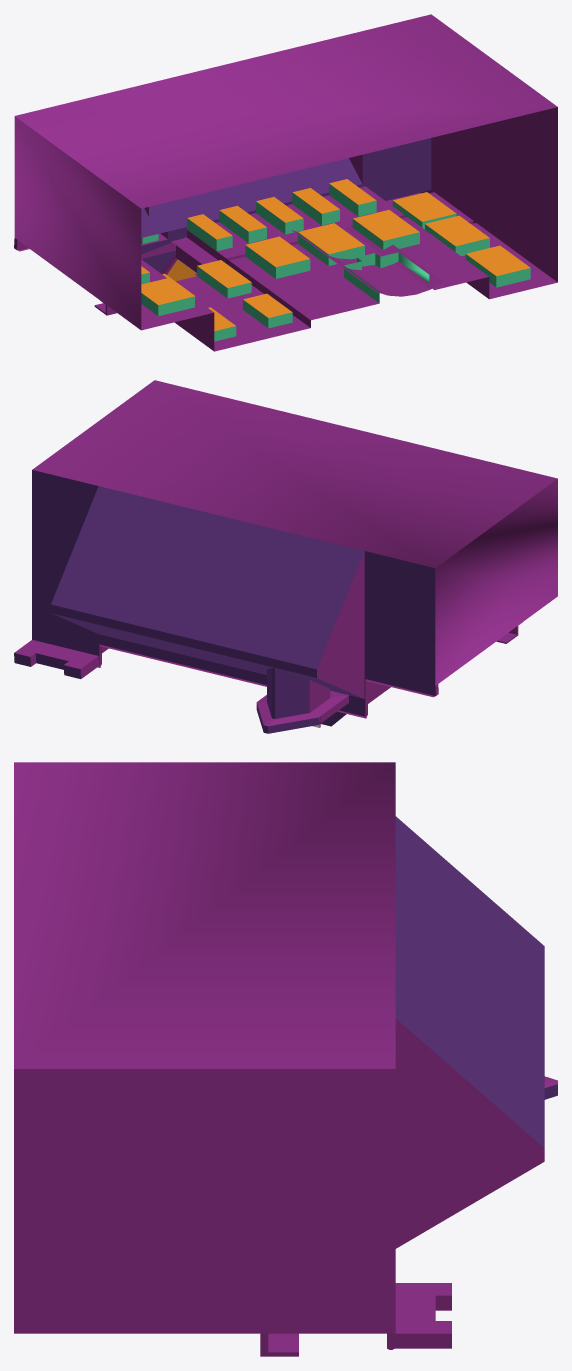
The model's file is dom glogierow Tier 3.fbx.
3 views of the same model, one above another, from view 1: azimuth 30°, elevation 25°; view 2: azimuth 150°, elevation 25°; view 3: azimuth 270°, elevation 25° (orthographic). The views are drawn at different scales.
Visible parts, largest first — view 1: Dom_Glogierów_Cube.001; view 2: Dom_Glogierów_Cube.001; view 3: Dom_Glogierów_Cube.001.
Boxes of the visible parts, box(x1,y1,x2,y2) form: Dom_Glogierów_Cube.001: box(14, 14, 557, 351); Dom_Glogierów_Cube.001: box(14, 380, 557, 733); Dom_Glogierów_Cube.001: box(14, 762, 557, 1356).
Size of the model in its own units: 4.57 by 2.02 by 3.43.
